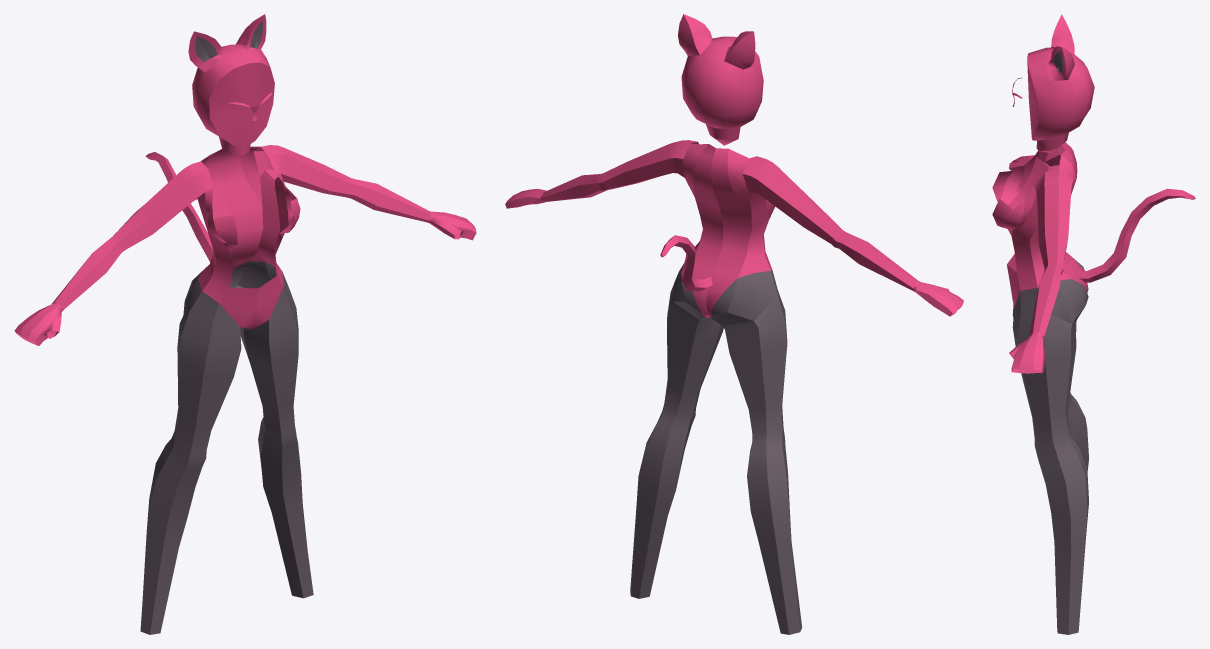
Rendered from Bany_Catwoman_005.fbx.
3 renders of one model, left to right at view 1: azimuth 30°, elevation 25°; view 2: azimuth 150°, elevation 25°; view 3: azimuth 270°, elevation 25°, orthographic. The views are drawn at different scales.
Visible parts, largest first — view 1: Bany_Catwoman_005; view 2: Bany_Catwoman_005; view 3: Bany_Catwoman_005.
Part boxes in pixels (x1=…): Bany_Catwoman_005: x1=14, y1=14, x2=476, y2=634; Bany_Catwoman_005: x1=505, y1=14, x2=963, y2=634; Bany_Catwoman_005: x1=992, y1=14, x2=1195, y2=634.
Bounding box in the file's own units: 12851 × 16020 × 5219.
